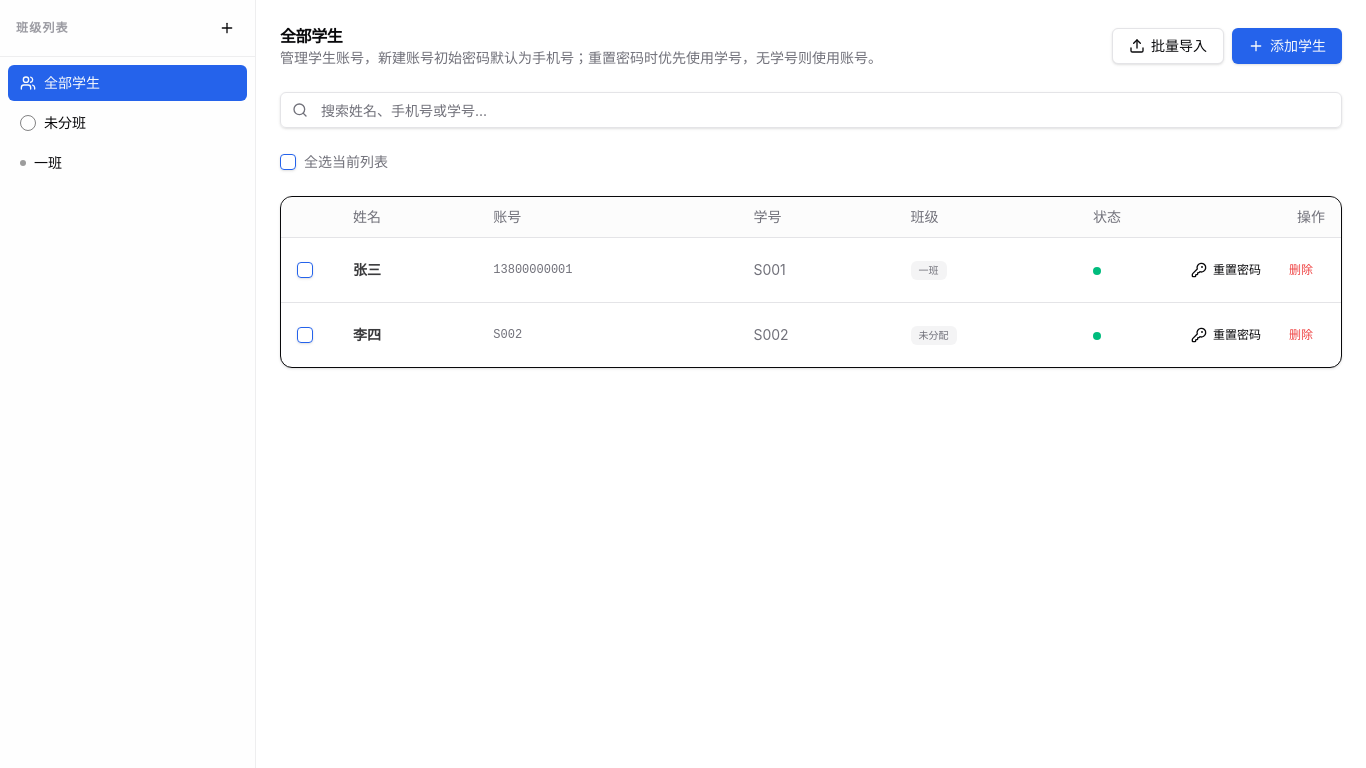
StudentManagementPage › supports selecting current students and deleting them in batch
Check: the text "张三" is shown, box left=337, top=237, right=477, bottom=302
Check: the text "李四" is shown, box left=337, top=302, right=477, bottom=366
Click the checkbox named "全选当前列表学生". click: click(288, 162)
box: left=280, top=154, right=296, bottom=170
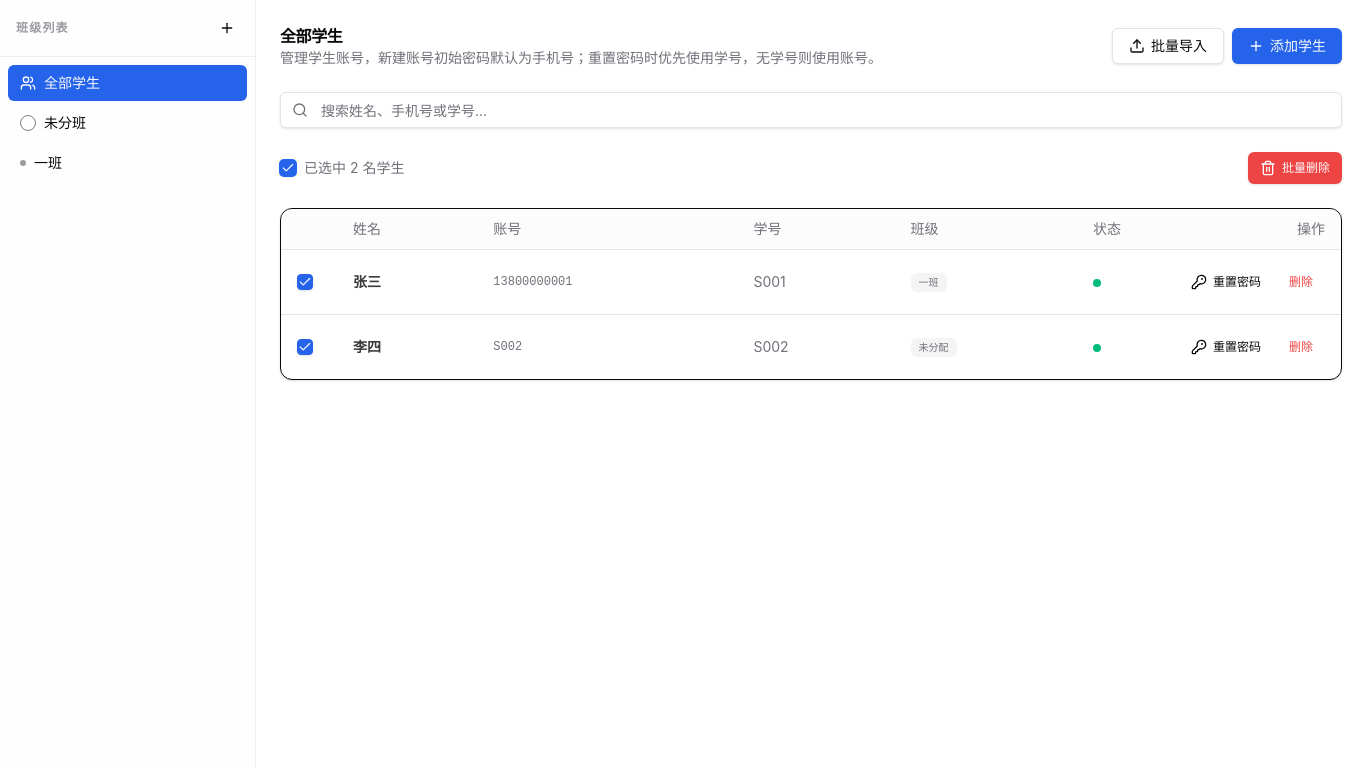
Click the button "批量删除". click: click(1295, 168)
box: left=1248, top=152, right=1342, bottom=184
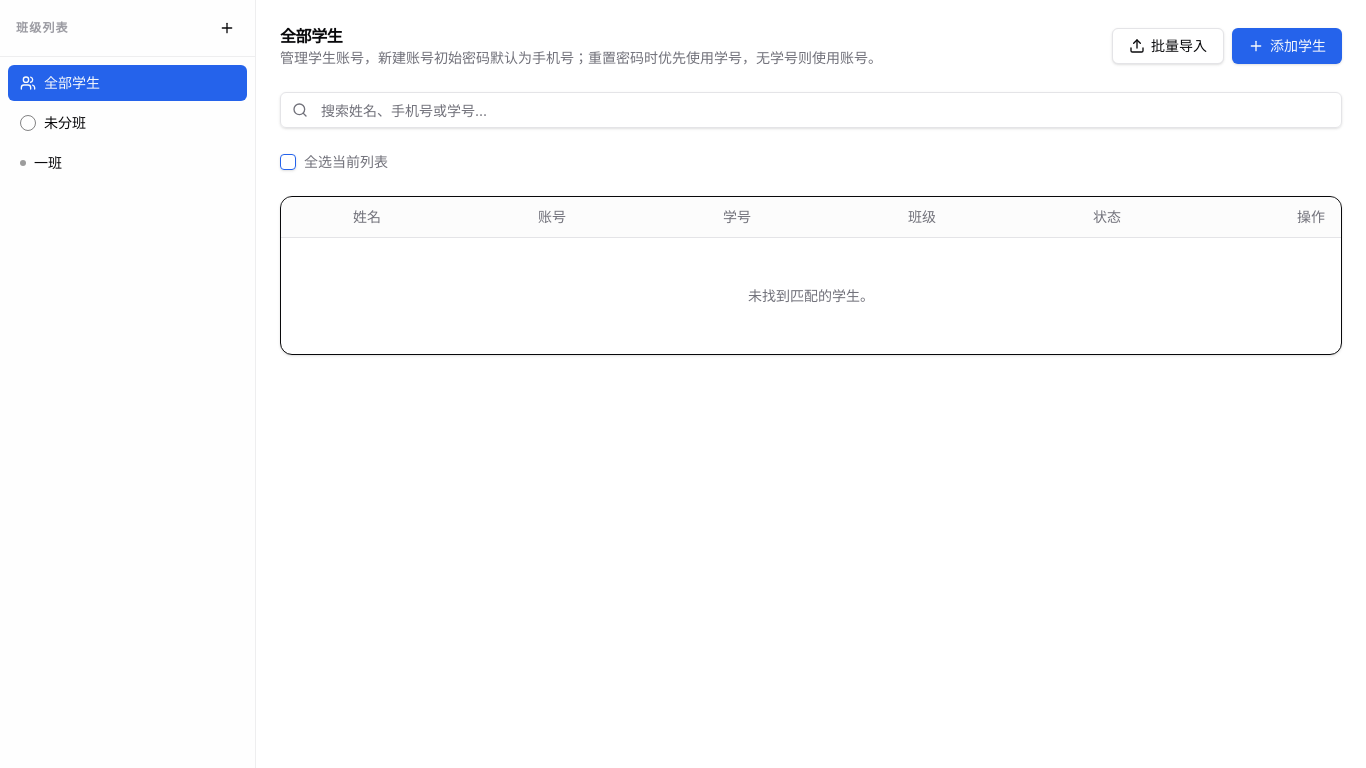
Check: the text "张三" is gone
Check: the text "李四" is gone
